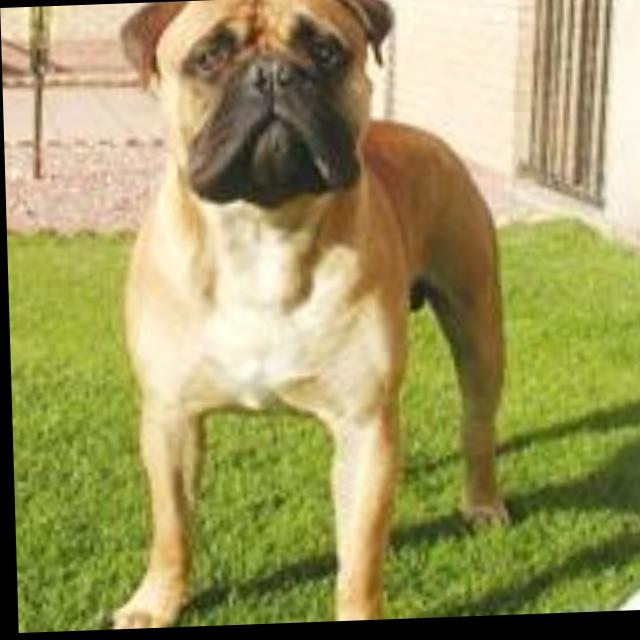bullmastiff: (90, 1, 515, 631)
